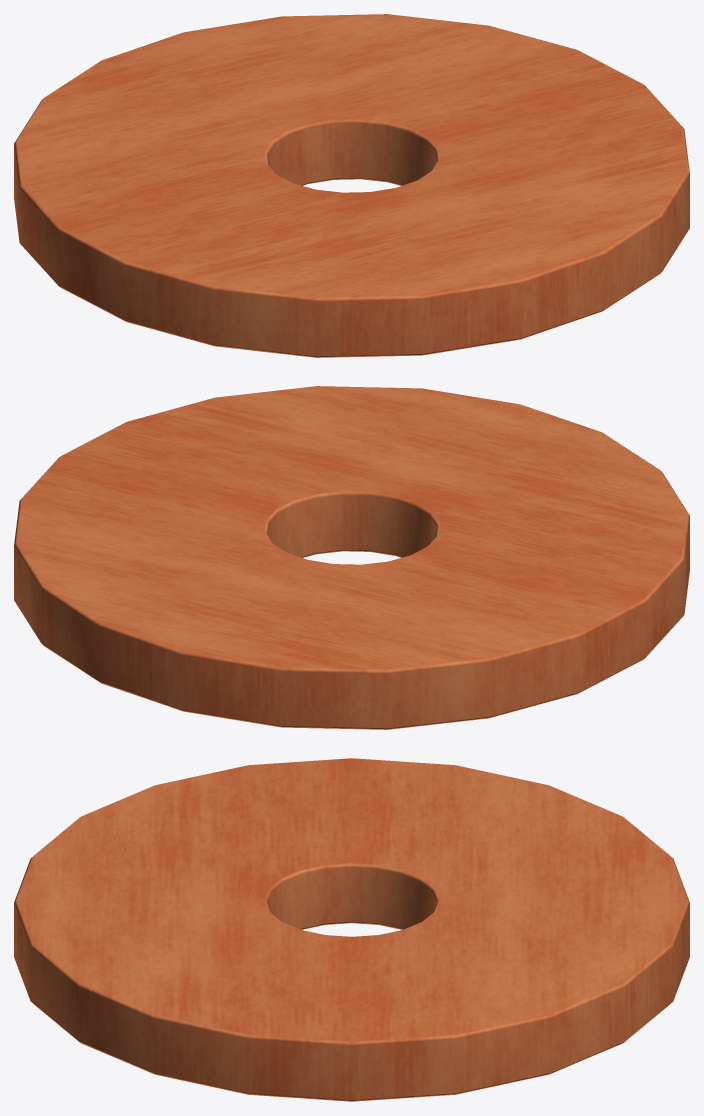
The model's file is stone5.fbx.
The picture shows the model from 3 angles, top to bottom: view 1: azimuth 30°, elevation 25°; view 2: azimuth 150°, elevation 25°; view 3: azimuth 270°, elevation 25°; orthographic projection.
Parts seen in each view (by area): view 1: stone; view 2: stone; view 3: stone.
Part boxes in pixels (left/top/right/bottom): stone: left=14, top=14, right=689, bottom=357; stone: left=14, top=386, right=689, bottom=729; stone: left=14, top=758, right=689, bottom=1101.
Size of the model in its own units: 1.32 by 0.1295 by 1.32.
